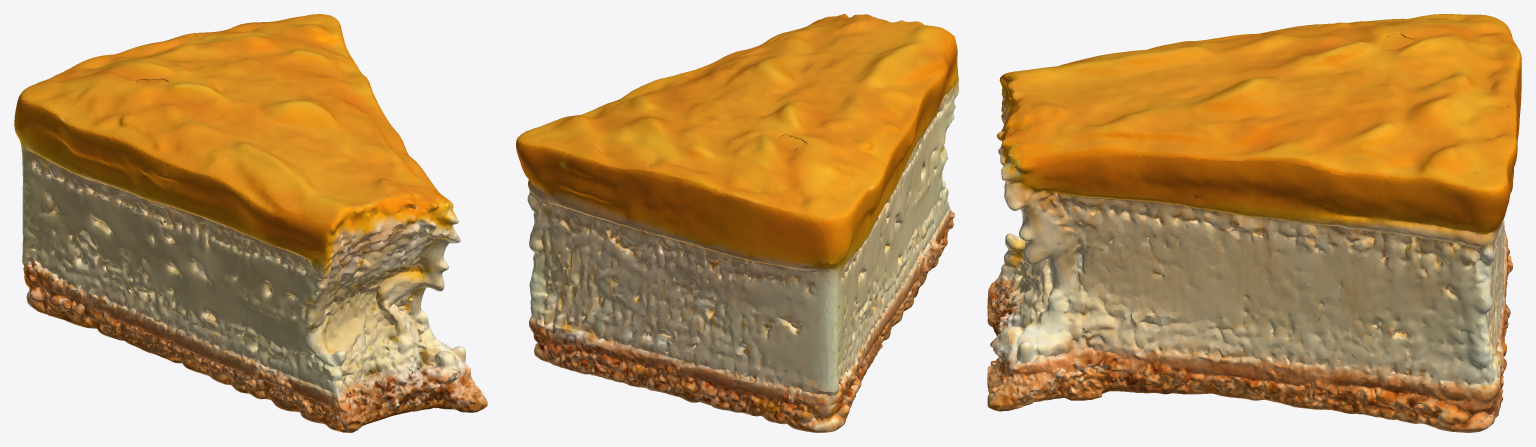
3 renders of one model, left to right at view 1: azimuth 30°, elevation 25°; view 2: azimuth 150°, elevation 25°; view 3: azimuth 270°, elevation 25°, orthographic. The views are drawn at different scales.
Parts seen in each view (by area): view 1: FoodRedoV2Alignment-0; view 2: FoodRedoV2Alignment-0; view 3: FoodRedoV2Alignment-0.
Boxes of the visible parts, box(x1,y1,x2,y2) form: FoodRedoV2Alignment-0: box(14, 14, 487, 432); FoodRedoV2Alignment-0: box(516, 14, 958, 432); FoodRedoV2Alignment-0: box(987, 14, 1521, 432).
Size of the model in its own units: 0.1001 by 0.074 by 0.1245.
1 material, 1 textured.
